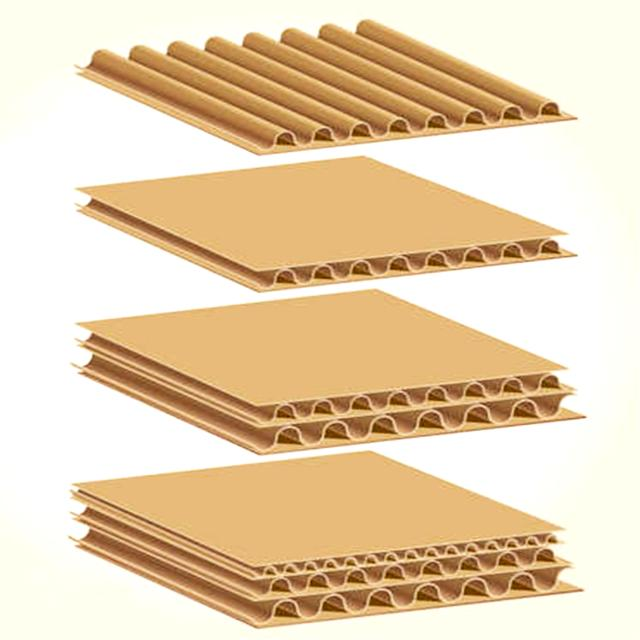Carton: (77, 156, 582, 292), (77, 287, 570, 426), (71, 451, 564, 578)
